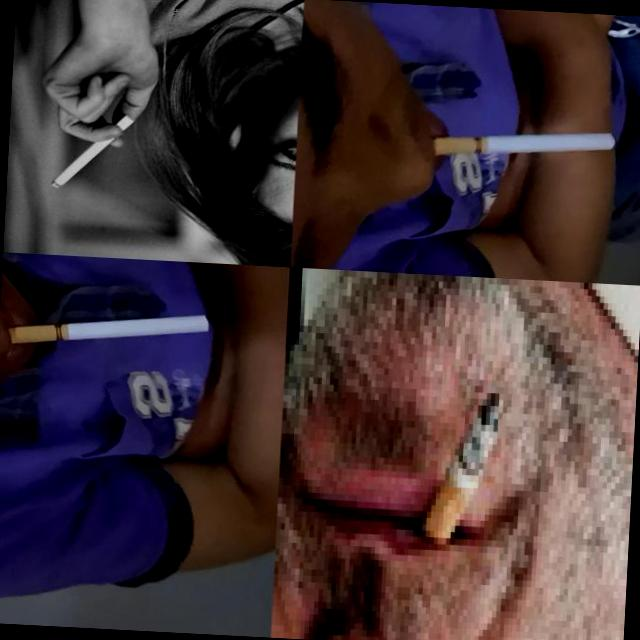cigarette: (414, 388, 504, 568), (11, 304, 212, 352), (433, 124, 618, 164), (53, 111, 134, 192)
